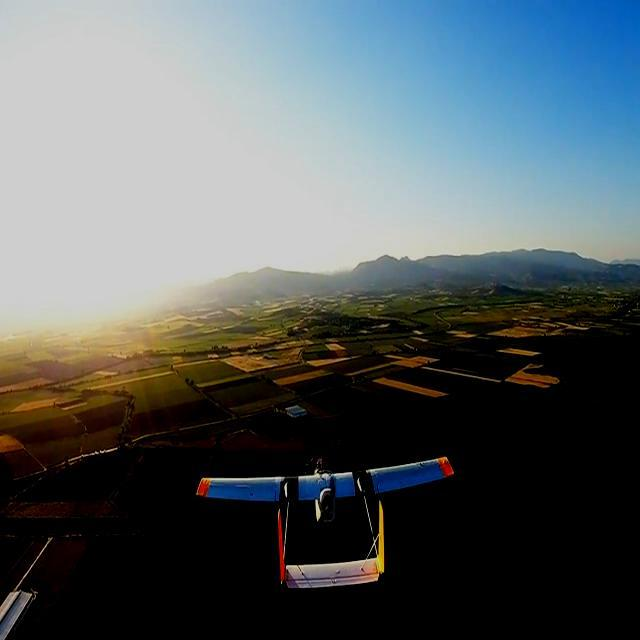iha: (184, 438, 466, 588)
